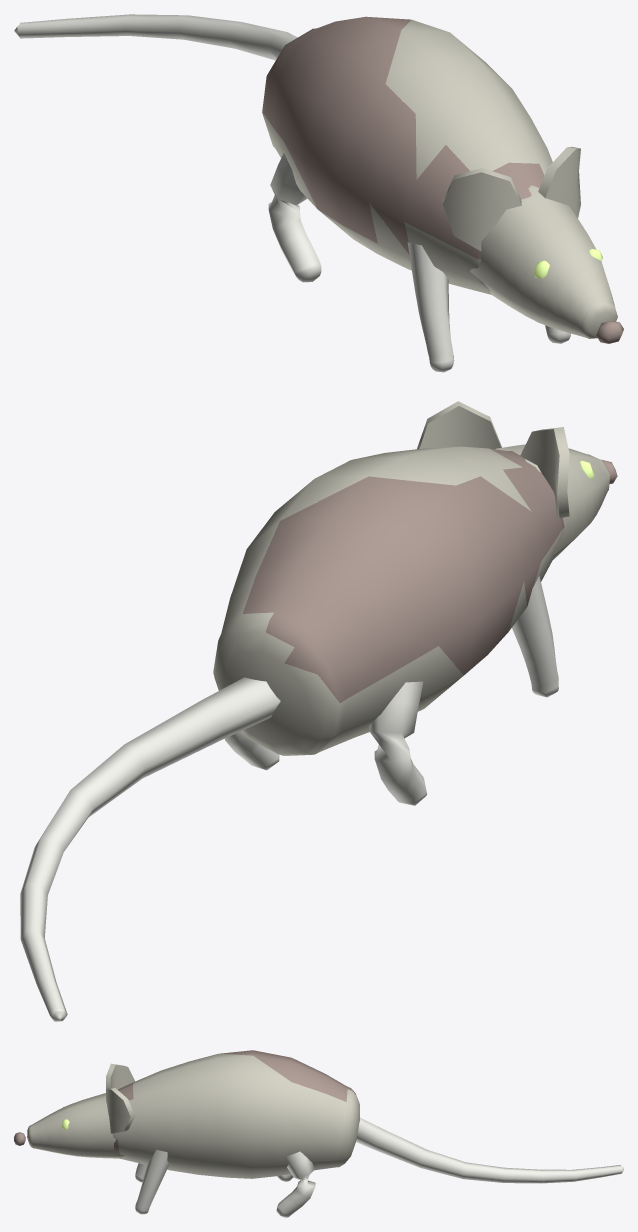
Rendered from undead-horde-and-infected-variants-infected-rat-47e32820__12013.glb.
3 renders of one model, top to bottom at view 1: azimuth 30°, elevation 25°; view 2: azimuth 150°, elevation 25°; view 3: azimuth 270°, elevation 25°, orthographic. The views are drawn at different scales.
Parts seen in each view (by area): view 1: infected-rat; view 2: infected-rat; view 3: infected-rat.
Part boxes in pixels (x1=…): infected-rat: x1=14, y1=14, x2=623, y2=372; infected-rat: x1=20, y1=401, x2=617, y2=1021; infected-rat: x1=14, y1=1050, x2=623, y2=1217.
Bounding box in the file's own units: 0.113 × 0.1418 × 0.5479.
